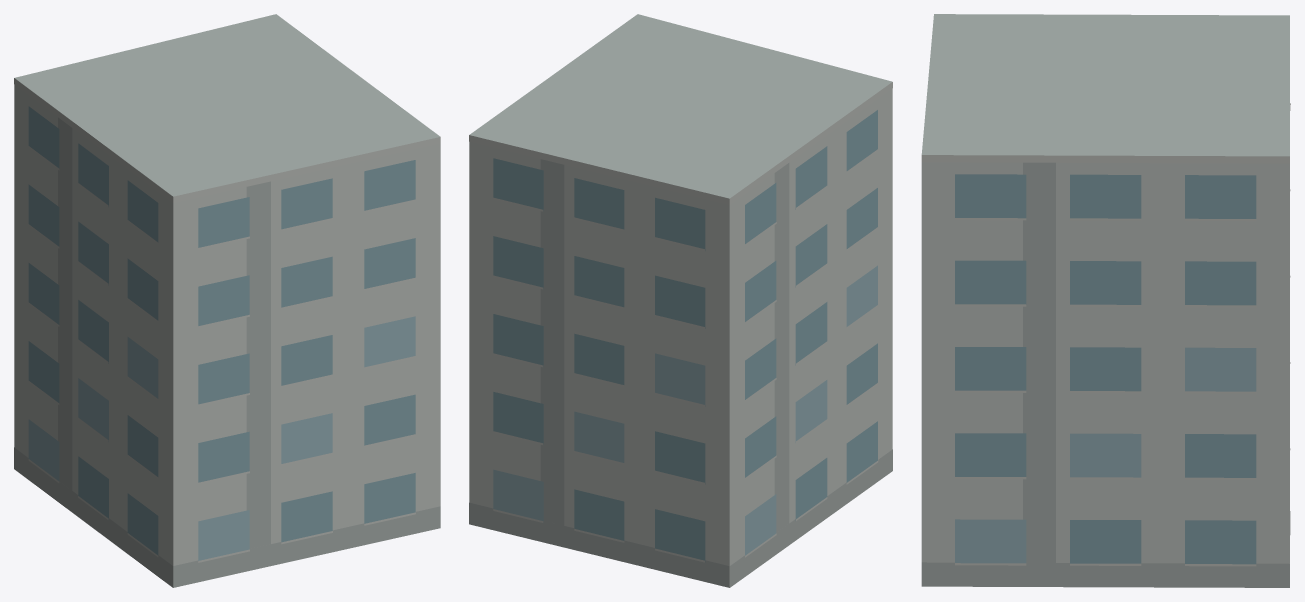
The model's file is survey-upis-32638595.glb.
3 views of the same model, side by side, from view 1: azimuth 30°, elevation 25°; view 2: azimuth 150°, elevation 25°; view 3: azimuth 270°, elevation 25° (orthographic). The views are drawn at different scales.
Parts seen in each view (by area): view 1: survey-upis-32638595.tmp; view 2: survey-upis-32638595.tmp; view 3: survey-upis-32638595.tmp.
Boxes of the visible parts, x1,y1,x2,y2 form: survey-upis-32638595.tmp: (14,14,440,587); survey-upis-32638595.tmp: (469,14,892,587); survey-upis-32638595.tmp: (921,14,1290,587).
Bounding box in the file's own units: 10.2 × 14.4 × 11.16.
